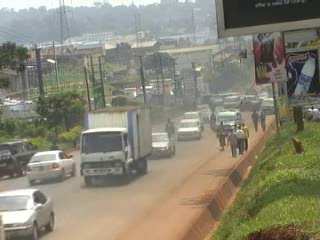Car: (0, 186, 59, 240), (24, 150, 78, 185), (151, 130, 177, 161), (175, 116, 204, 143), (231, 98, 262, 113), (182, 107, 205, 127), (199, 108, 217, 122)
Motorcycle: (205, 111, 219, 134), (164, 117, 174, 141), (209, 98, 216, 115)
